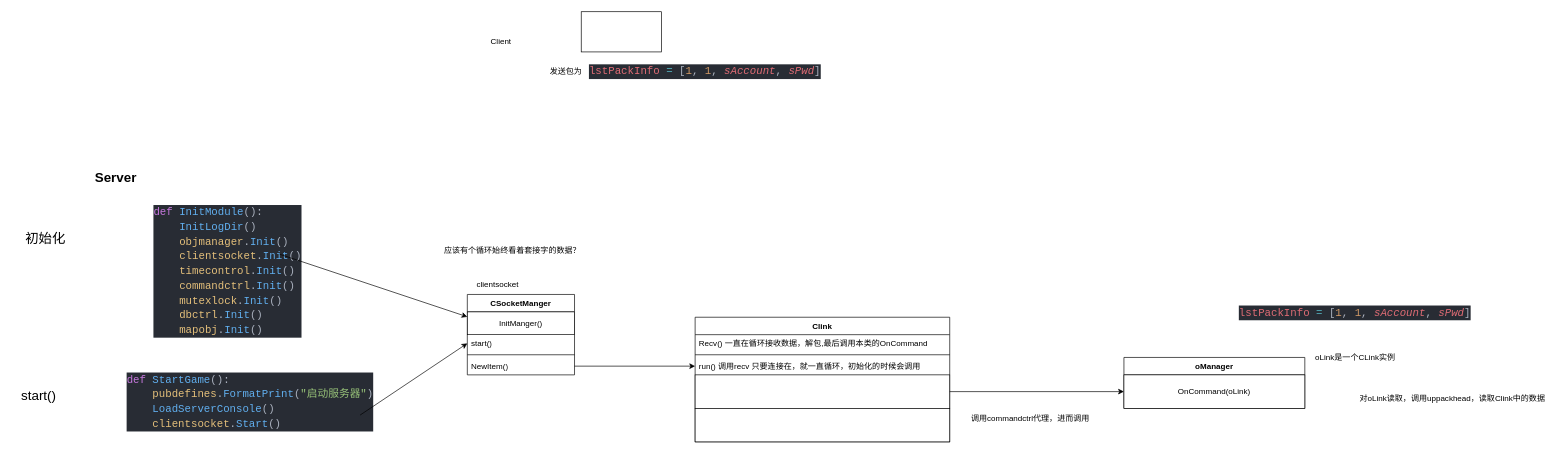
This 1564x454 diagram has some shape labels left out. Each missing label, with the centre of its shape:
OnCommand(lstPackData)把自己的实例传给oManager: point 822,391
UnpackHead()解包，读取第一个元素，并弹出: point 822,425
登录: point 621,31
